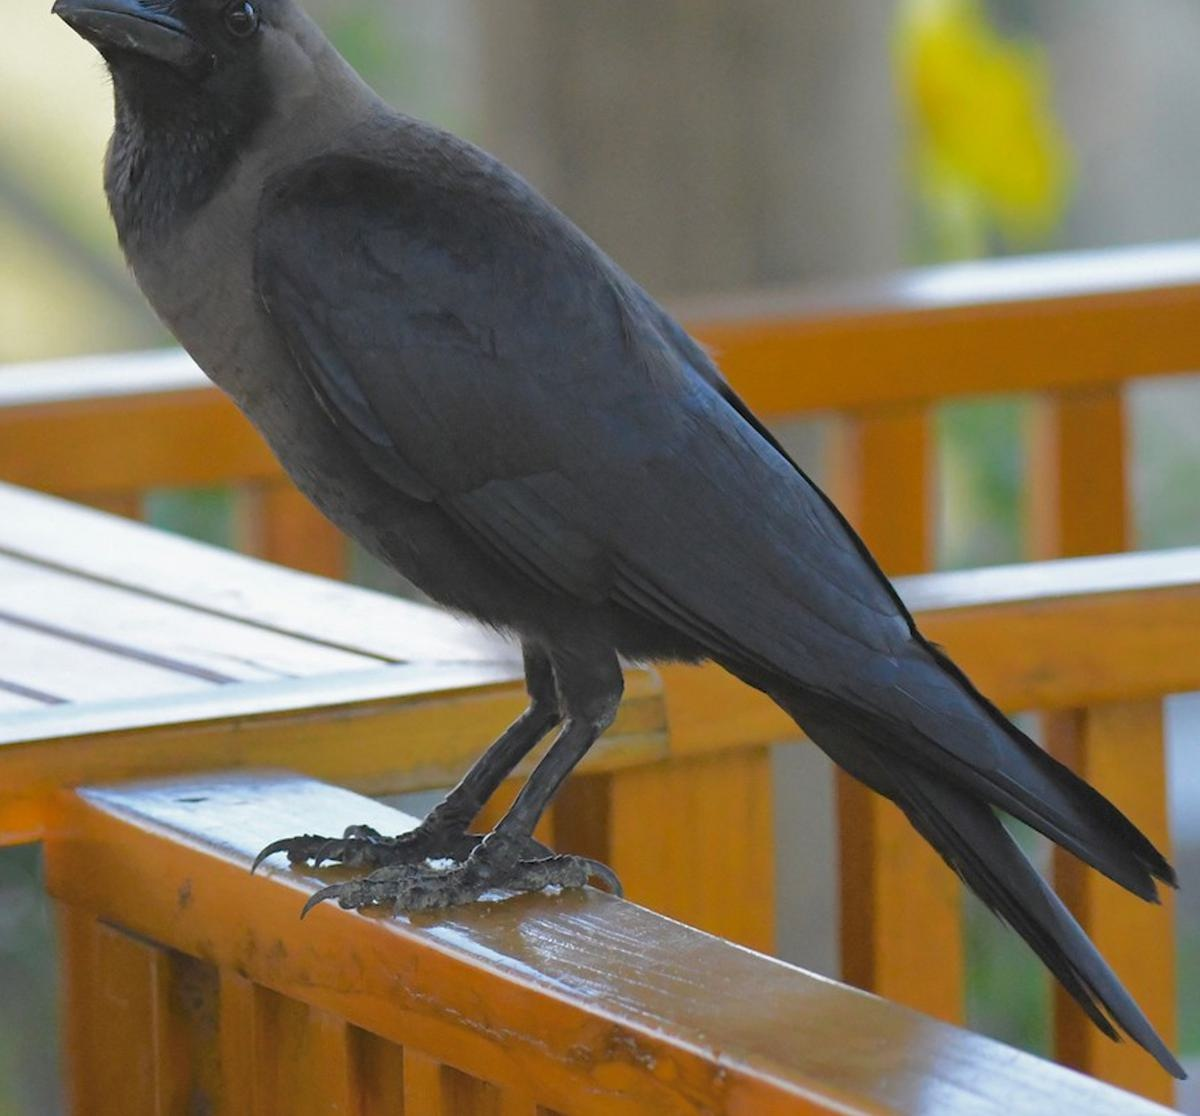crow: (1, 1, 1175, 1048)
